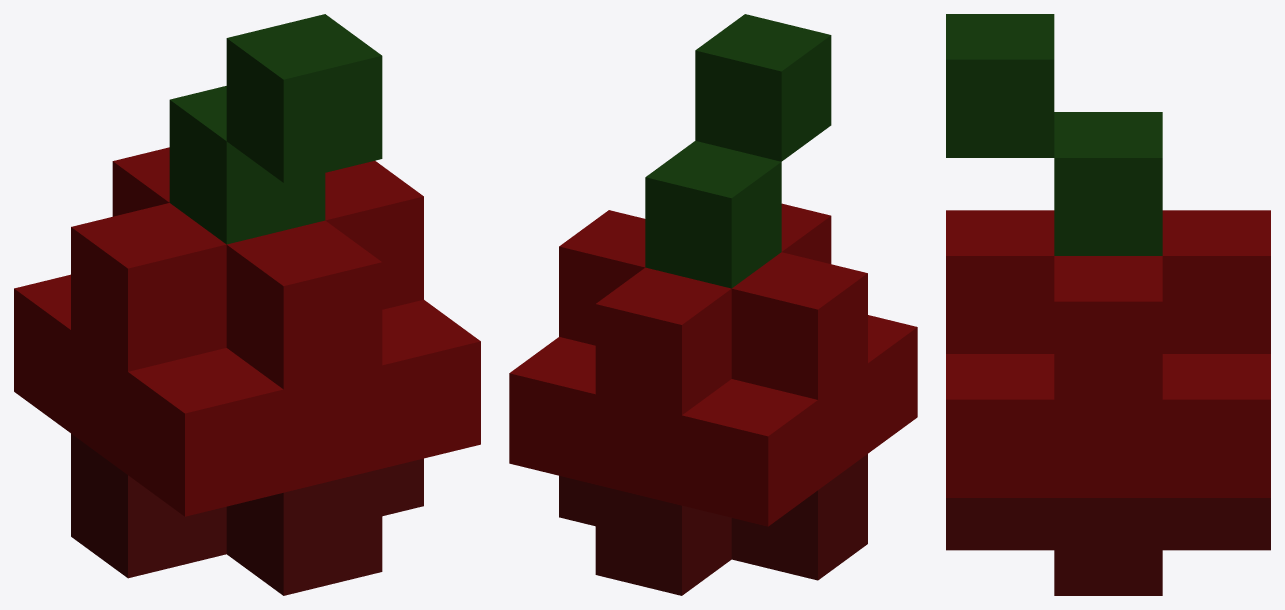
The model's file is Berry.obj.
3 views of the same model, side by side, from view 1: azimuth 30°, elevation 25°; view 2: azimuth 150°, elevation 25°; view 3: azimuth 270°, elevation 25° (orthographic). The views are drawn at different scales.
Bounding box in the file's own units: 0.3 × 0.5 × 0.3.
